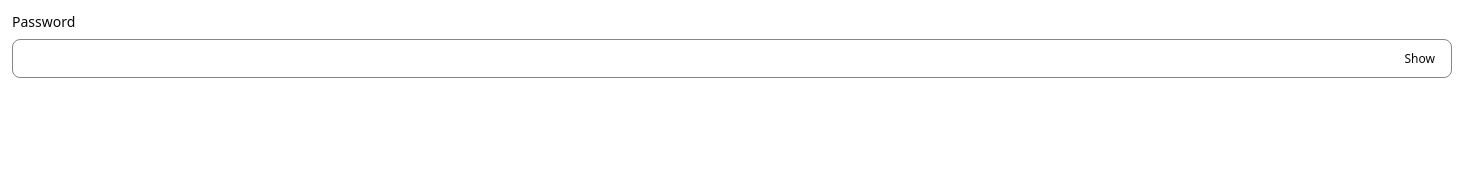
Scenario: PasswordInput › visibility toggle › toggles password visibility on button click
Later steps or results of the test are not shown.
Click the button with aria-label "Show password". click: click(1420, 58)
box: [1396, 42, 1444, 74]
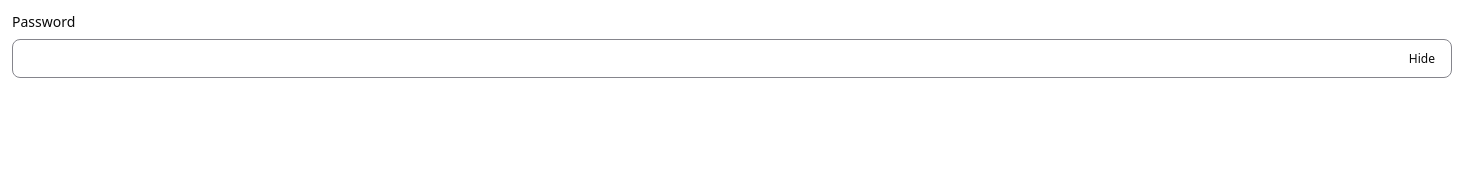
Expected: the button with aria-label "Hide password" is shown, [1400, 42, 1444, 74]
